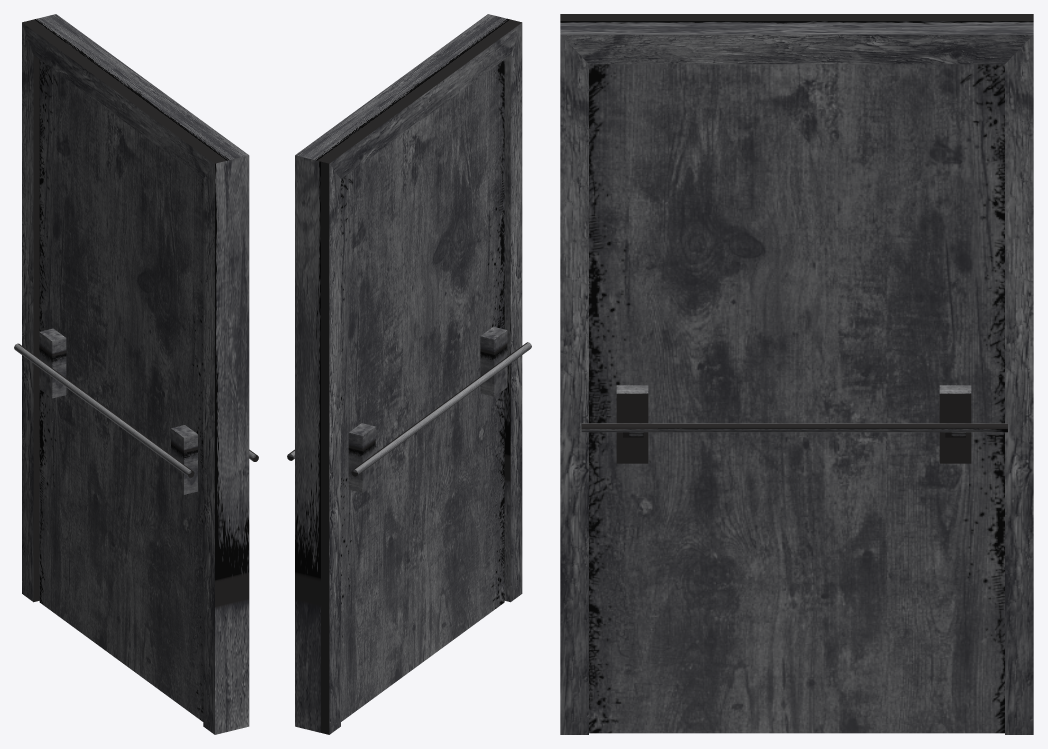
Rendered from Porta Entrada_Saida de Fase.fbx.
The picture shows the model from 3 angles, left to right: view 1: azimuth 30°, elevation 25°; view 2: azimuth 150°, elevation 25°; view 3: azimuth 270°, elevation 25°; orthographic projection. The views are drawn at different scales.
Parts seen in each view (by area): view 1: Porta, Batente, Maçaneta; view 2: Porta, Batente, Maçaneta; view 3: Porta, Batente, Maçaneta.
Part boxes in pixels (x1,y1,x2,y2): Porta: (39, 60, 203, 721); Batente: (22, 14, 249, 734); Maçaneta: (14, 328, 258, 494); Porta: (341, 60, 504, 721); Batente: (295, 14, 522, 734); Maçaneta: (287, 326, 531, 492); Porta: (589, 64, 1004, 733); Batente: (560, 14, 1033, 734); Maçaneta: (581, 385, 1007, 463).
Bounding box in the file's own units: 65.45 × 506 × 309.
Materials: 3 (3 with a texture image).
